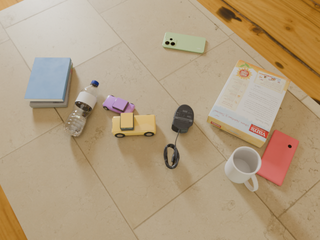book: (24, 58, 71, 101), (30, 62, 73, 108)
bottle: (63, 80, 99, 137)
box: (207, 60, 291, 147)
cup: (225, 147, 262, 191)
mouse: (172, 105, 194, 133)
phone: (256, 130, 299, 186), (163, 32, 206, 53)
toy_car: (112, 112, 156, 138), (103, 95, 135, 114)
